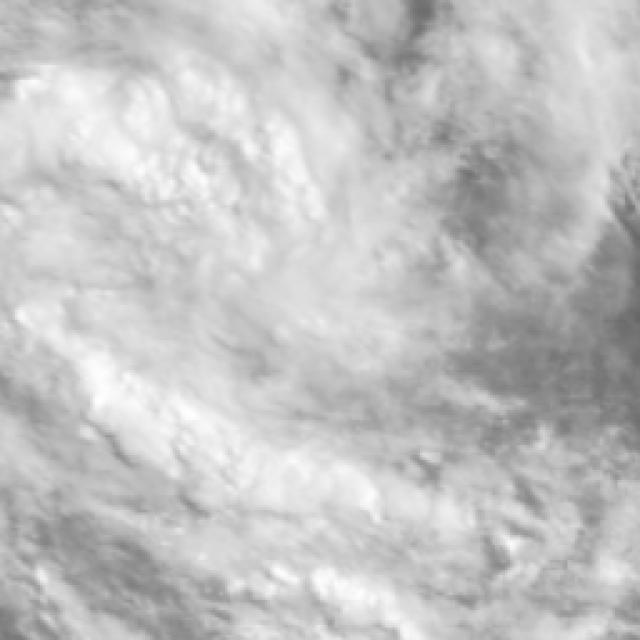CB: (16, 55, 324, 257)
